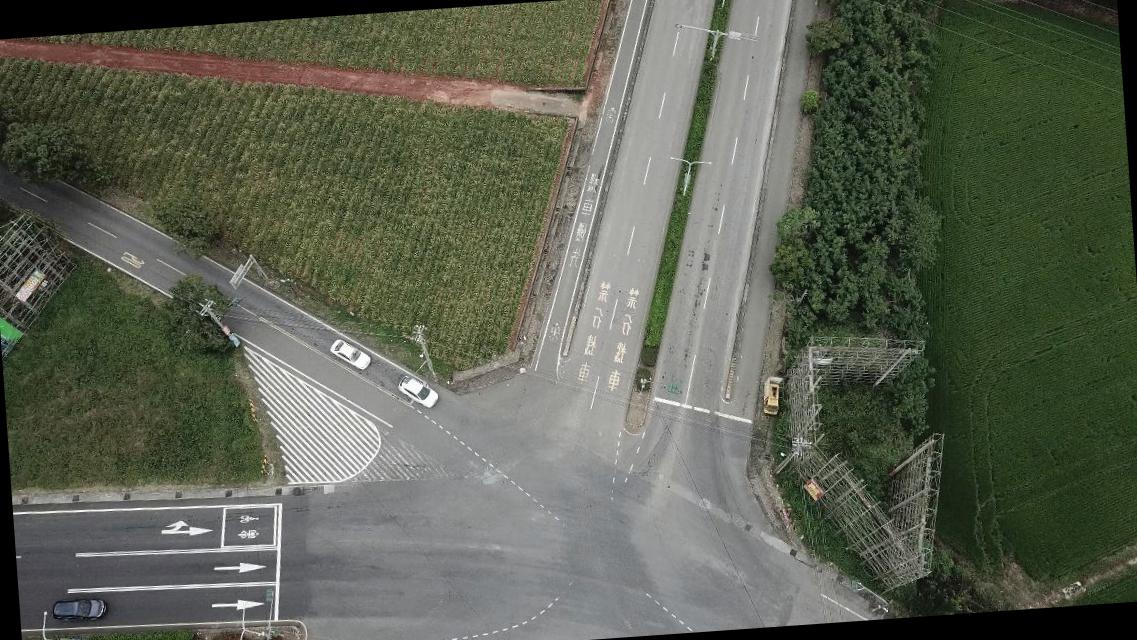vehicle: (397, 371, 440, 409), (49, 596, 107, 624), (330, 336, 372, 371), (762, 380, 784, 414)
